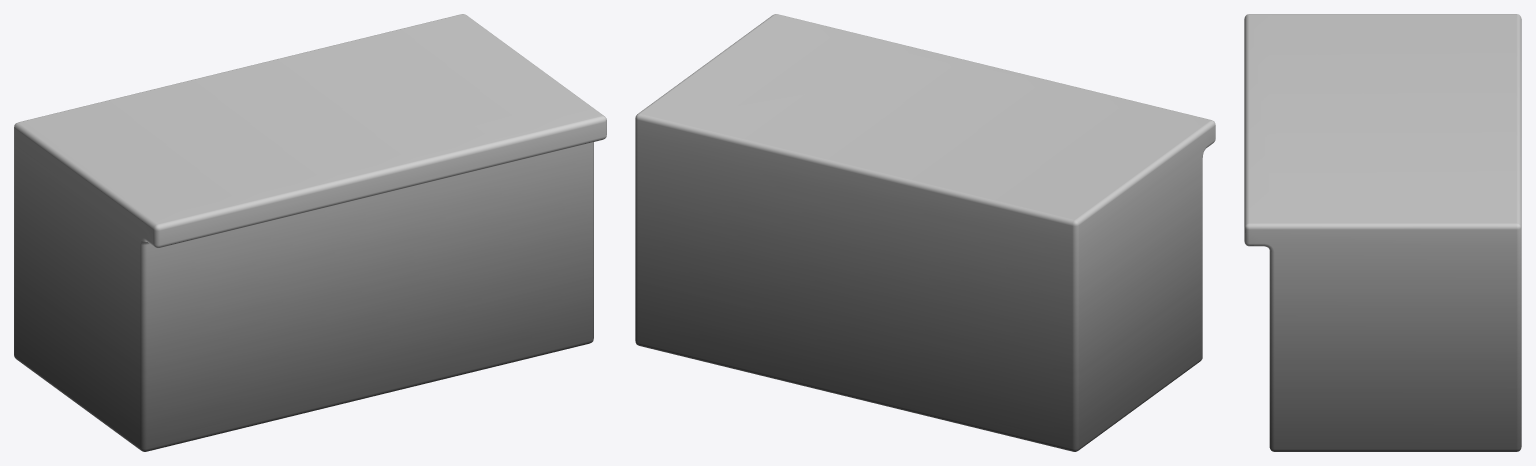
Rendered from HH_Counter_2Unit.fbx.
The picture shows the model from 3 angles, left to right: view 1: azimuth 30°, elevation 25°; view 2: azimuth 150°, elevation 25°; view 3: azimuth 270°, elevation 25°; orthographic projection. The views are drawn at different scales.
Parts seen in each view (by area): view 1: Counter_2Unit; view 2: Counter_2Unit; view 3: Counter_2Unit.
Boxes of the visible parts, box(x1,y1,x2,y2) form: Counter_2Unit: box(14, 14, 606, 451); Counter_2Unit: box(635, 14, 1215, 451); Counter_2Unit: box(1244, 14, 1521, 451).
Size of the model in its own units: 200 by 100 by 110.
1 material, 1 textured.
